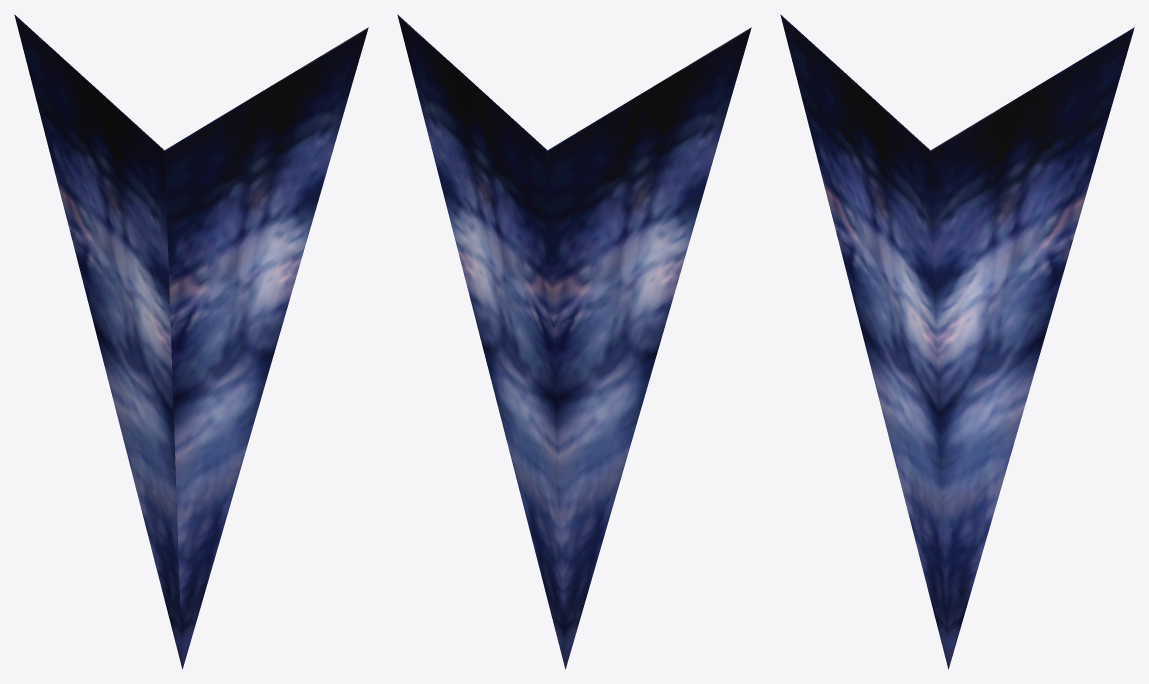
3 renders of one model, left to right at view 1: azimuth 30°, elevation 25°; view 2: azimuth 150°, elevation 25°; view 3: azimuth 270°, elevation 25°, orthographic.
Parts seen in each view (by area): view 1: Object23; view 2: Object23; view 3: Object23.
Boxes of the visible parts, bbox=[...] form: Object23: bbox=[14, 14, 368, 669]; Object23: bbox=[397, 14, 751, 669]; Object23: bbox=[780, 14, 1134, 669].
Bounding box in the file's own units: 1010 × 2095 × 1110.
1 material, 1 textured.
